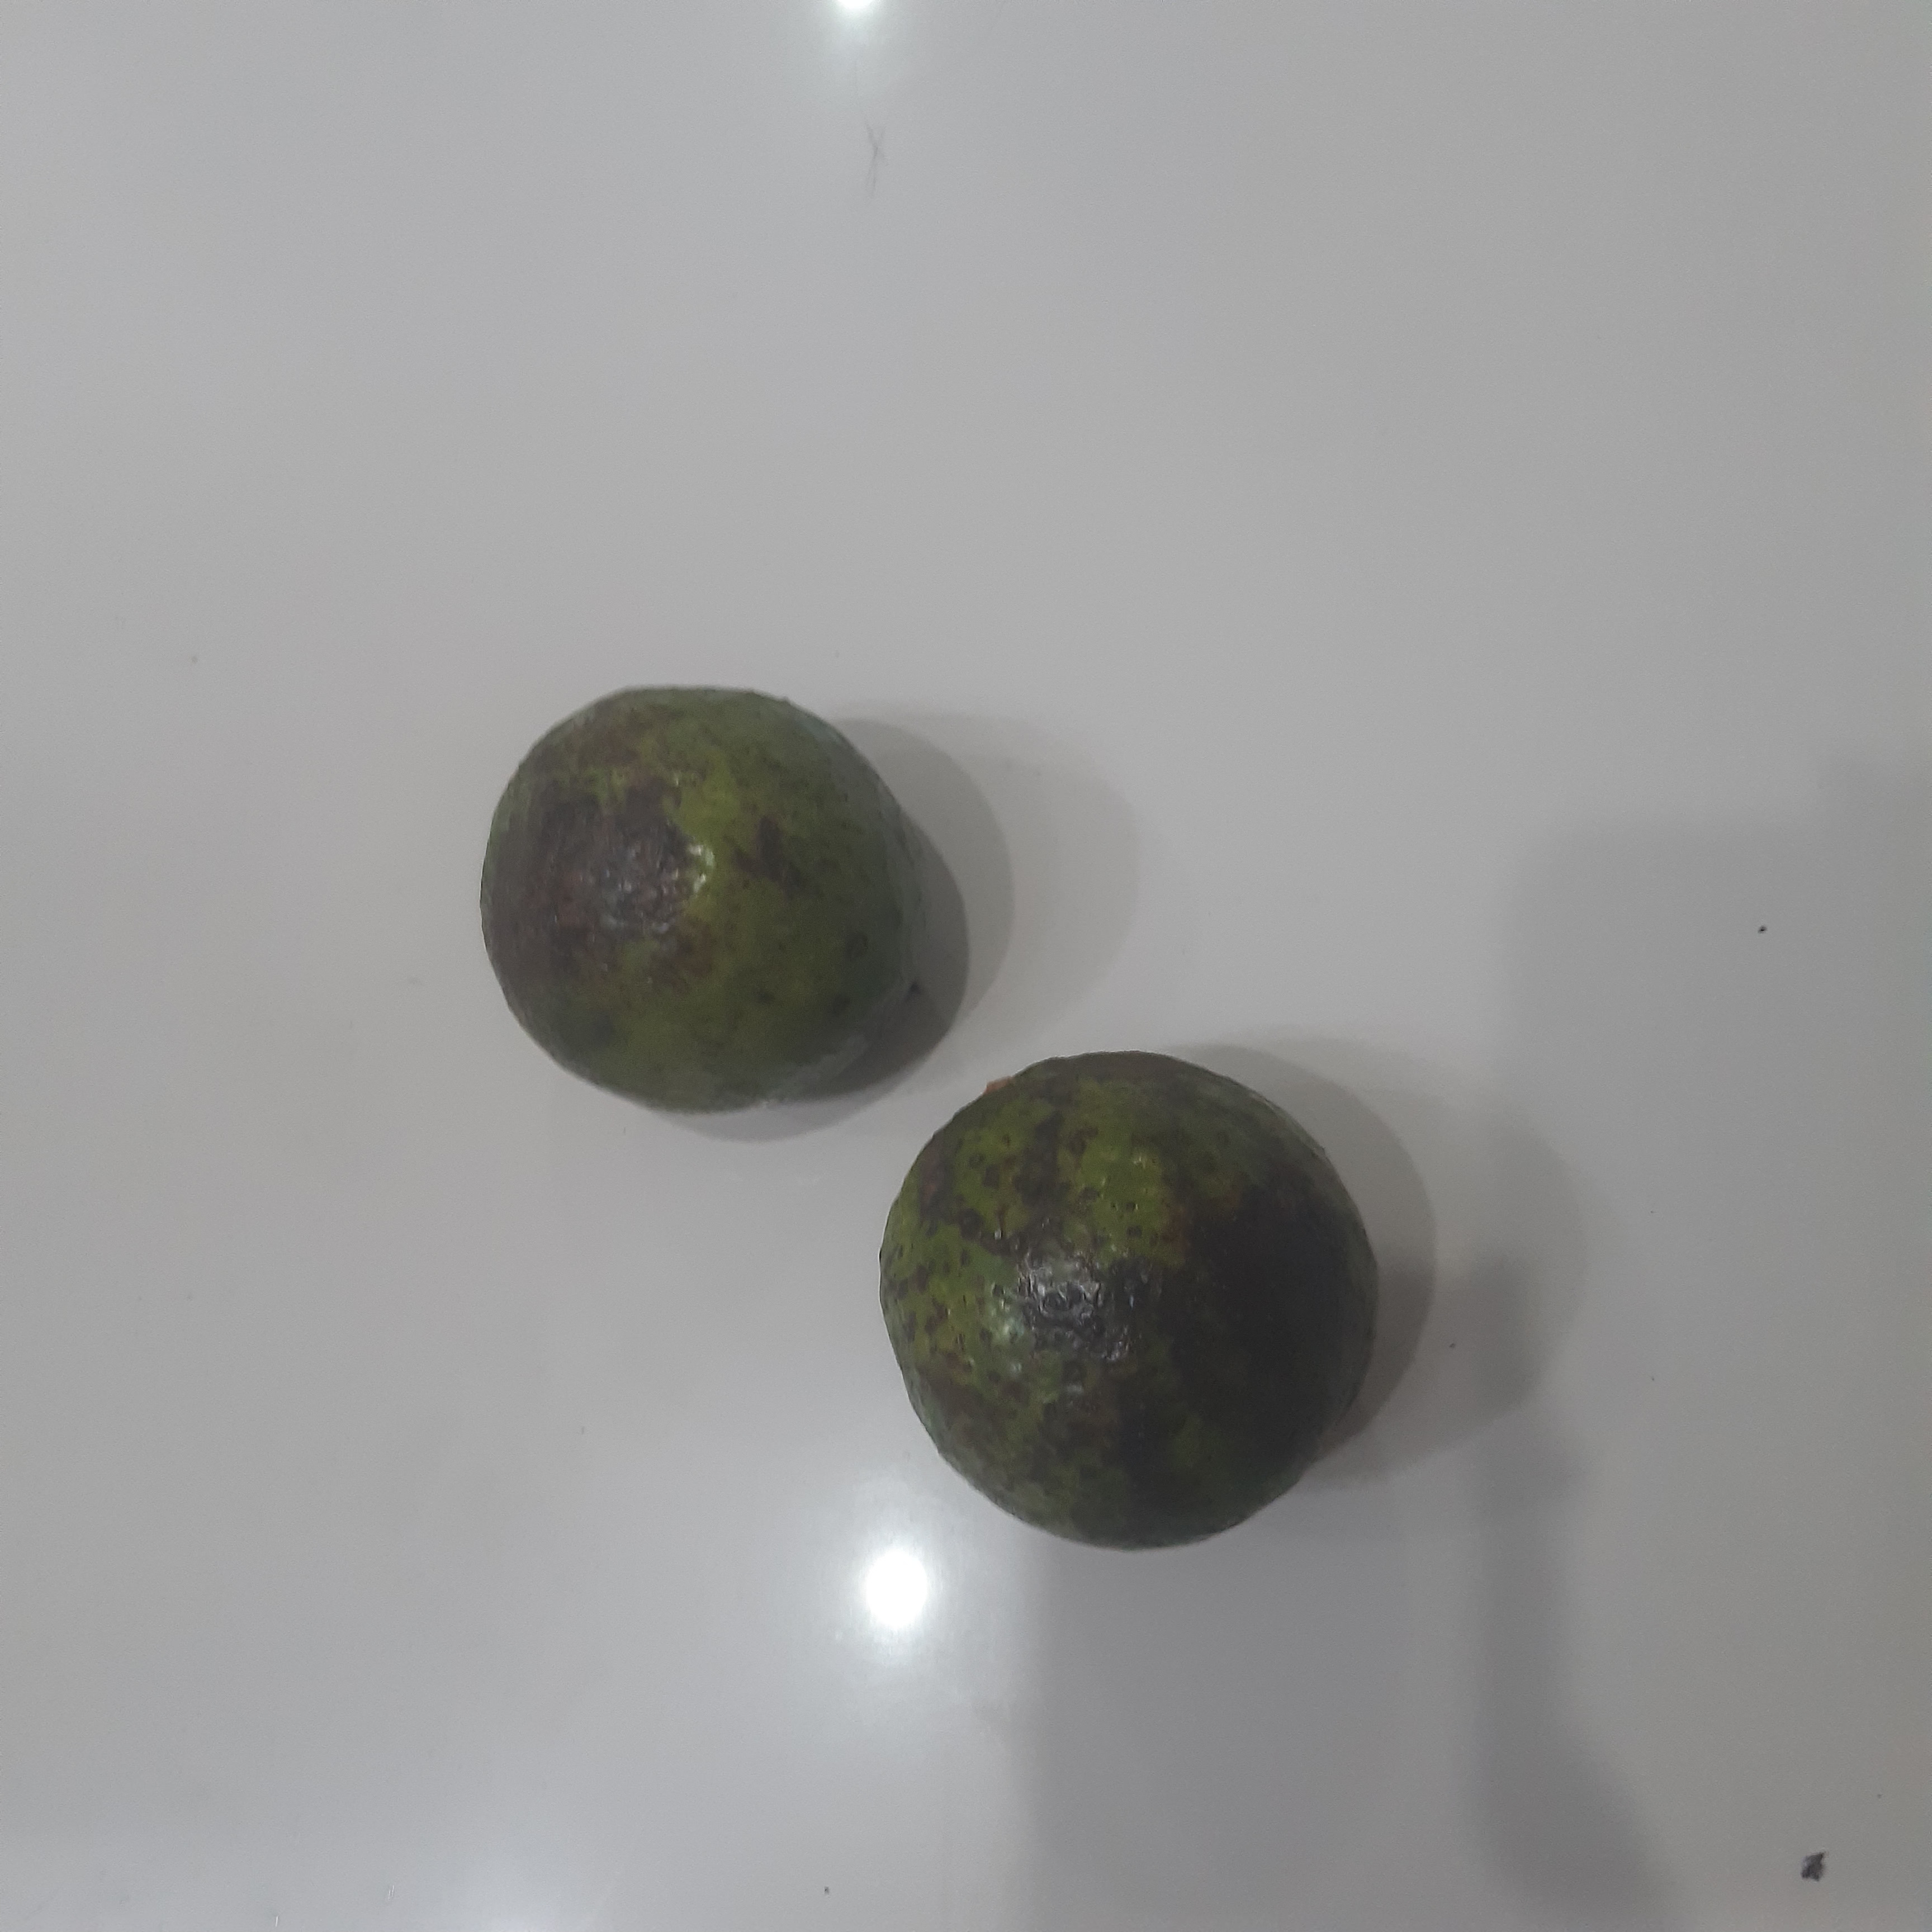Bo: (871, 1048, 1379, 1558), (478, 680, 925, 1118)
